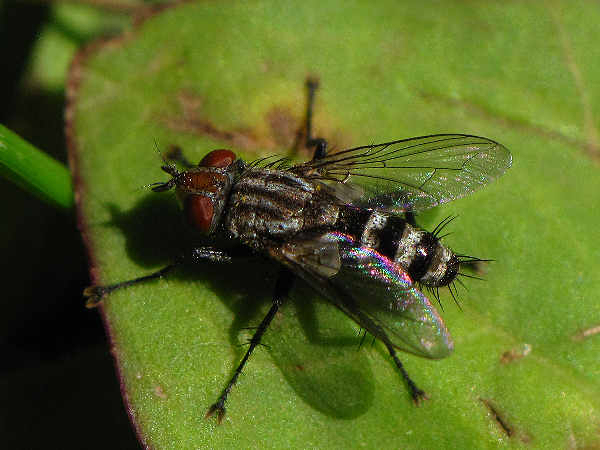house fly: (82, 74, 520, 421)
